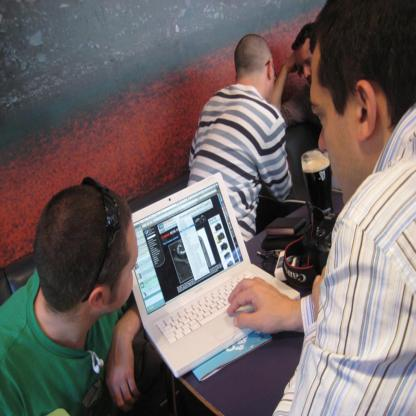board: (132, 166, 282, 401)
